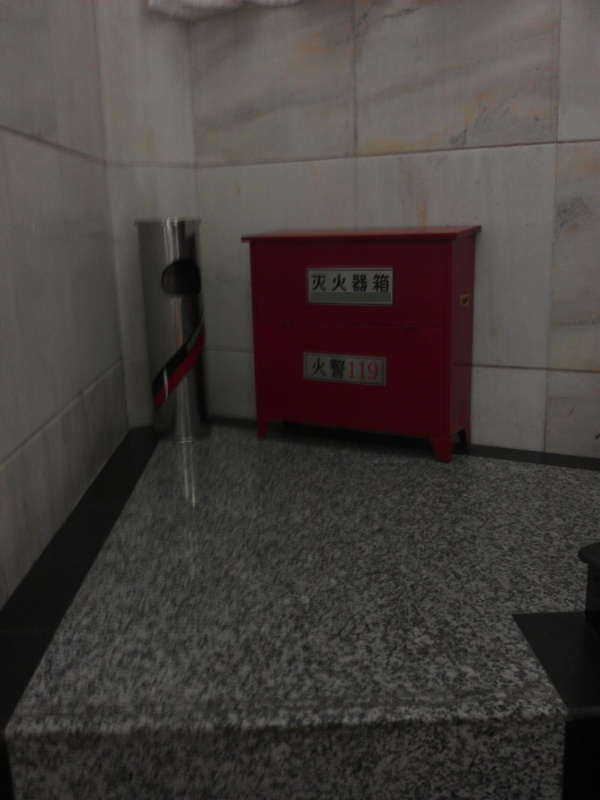text: (321, 356, 336, 383), (337, 356, 352, 383), (353, 356, 368, 383), (369, 356, 380, 383), (321, 274, 336, 292), (337, 274, 352, 292), (353, 274, 368, 292), (369, 274, 384, 292), (312, 356, 320, 383), (311, 274, 320, 292), (385, 274, 388, 292)
